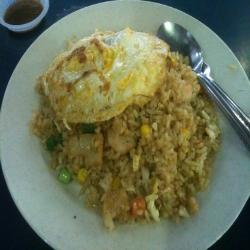bread: (42, 25, 170, 130)
rice: (56, 100, 234, 235)
